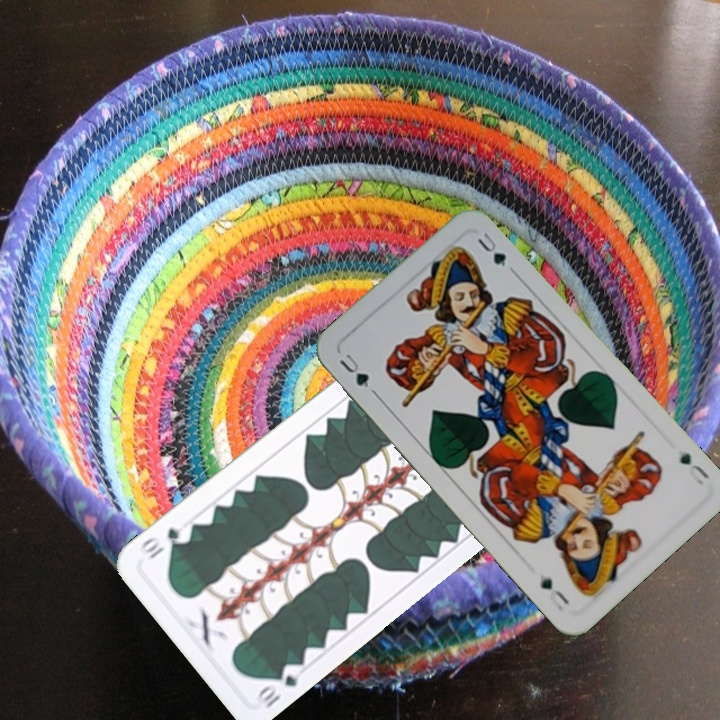G10: (253, 659, 306, 711)
GU: (335, 349, 379, 397), (675, 447, 712, 488)
